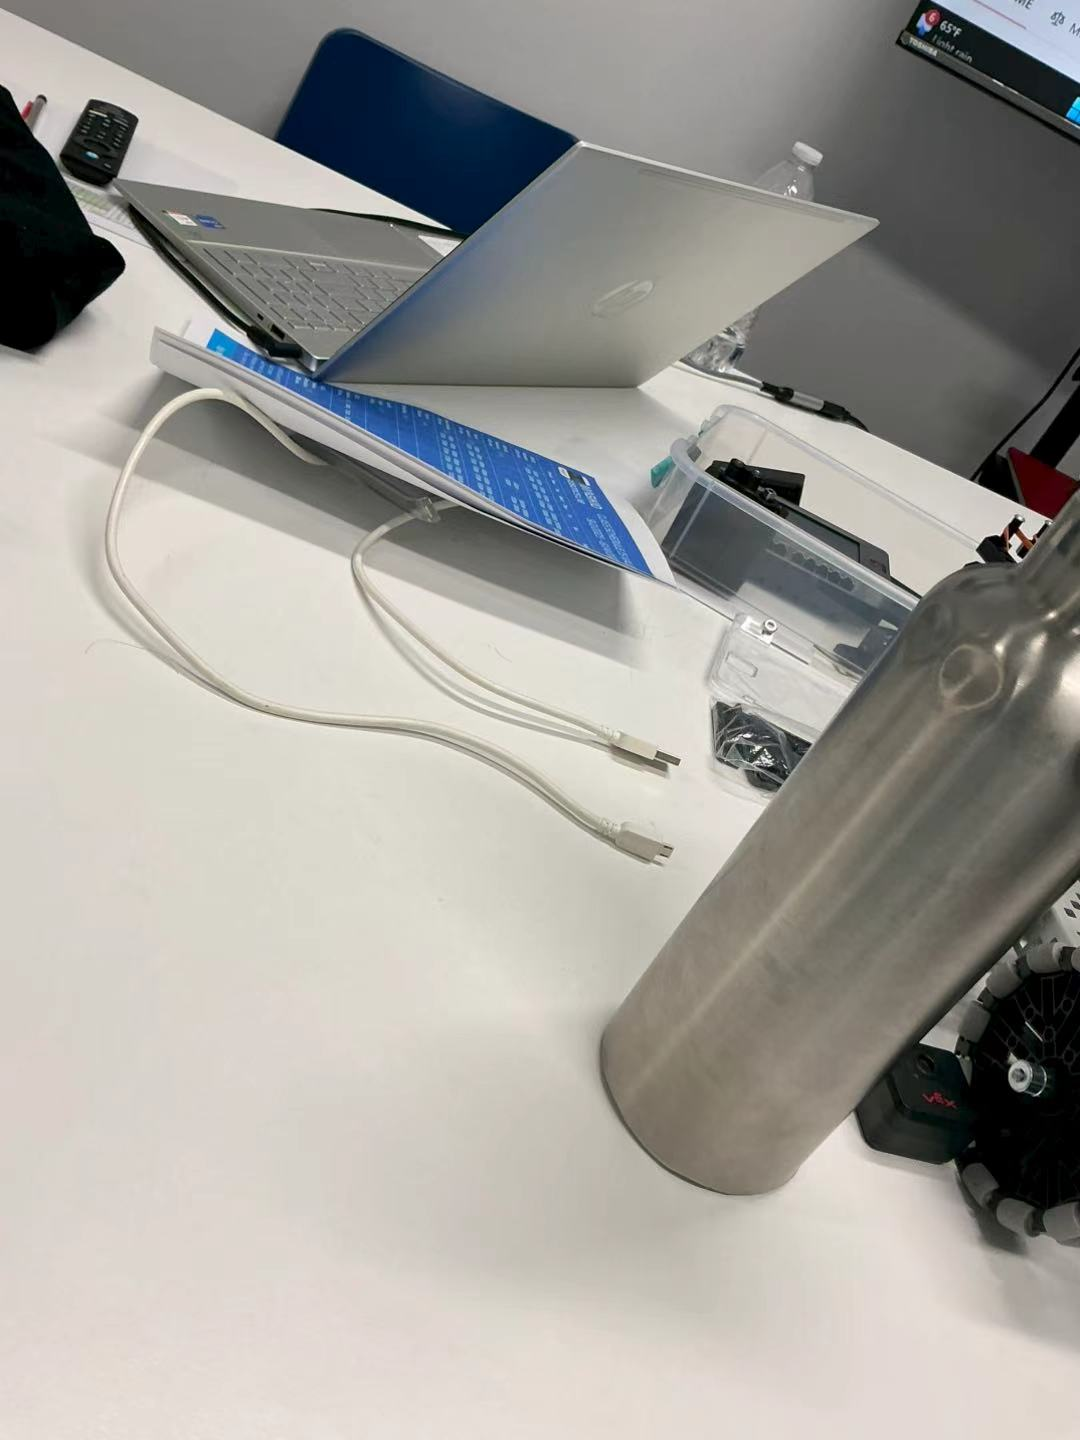Water_Bottle: (599, 489, 1080, 1189)
